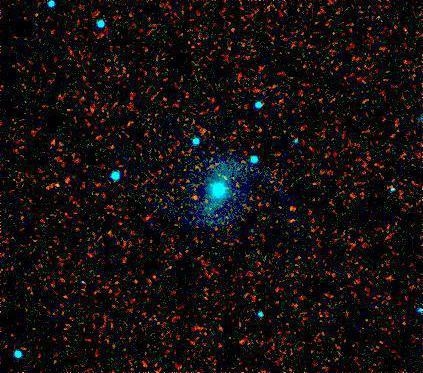star: (180, 182, 210, 212)
